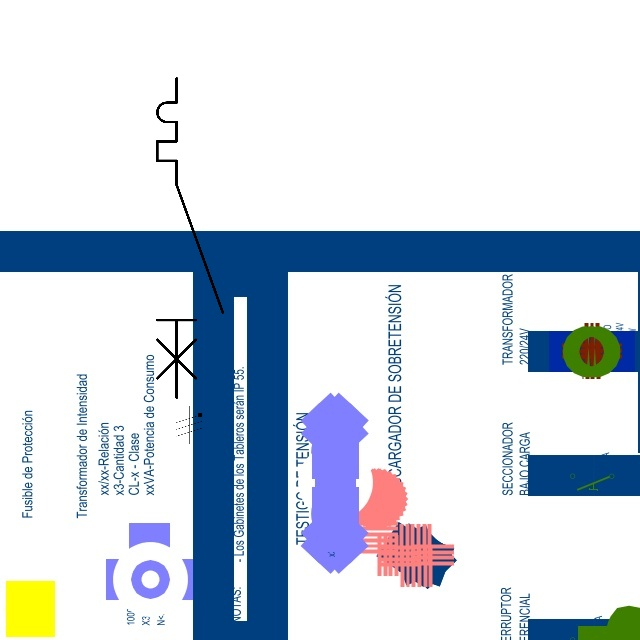interruptor_termomagnetico: (149, 70, 231, 405)
